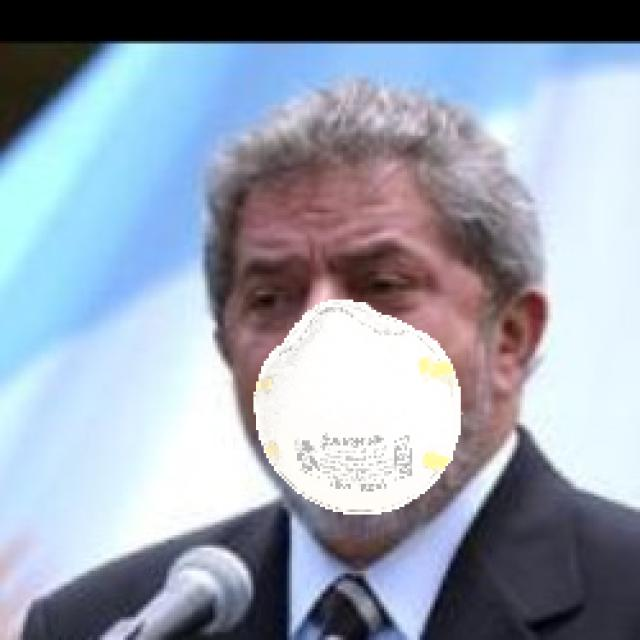mask: (255, 301, 470, 555)
